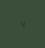four: (19, 19, 23, 28)
